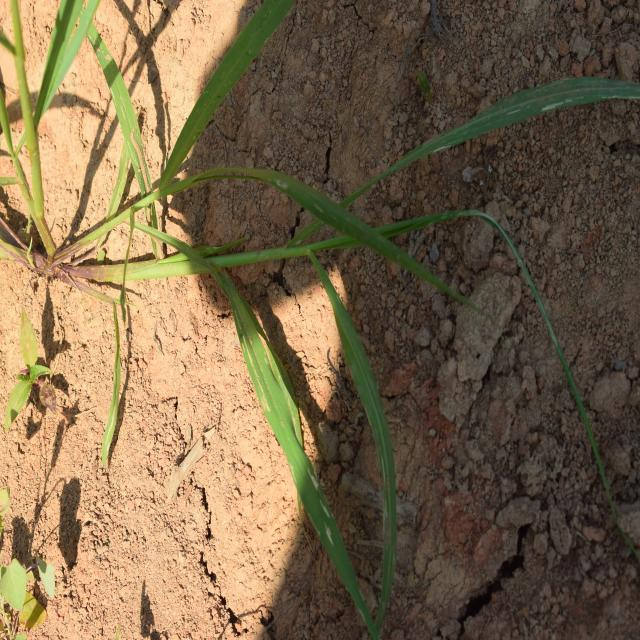green_foxtail: (107, 54, 419, 534)
